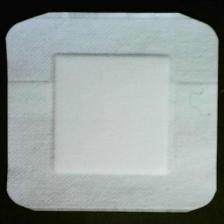Dressing: (6, 12, 220, 215)
F_Body: (183, 84, 217, 123)
